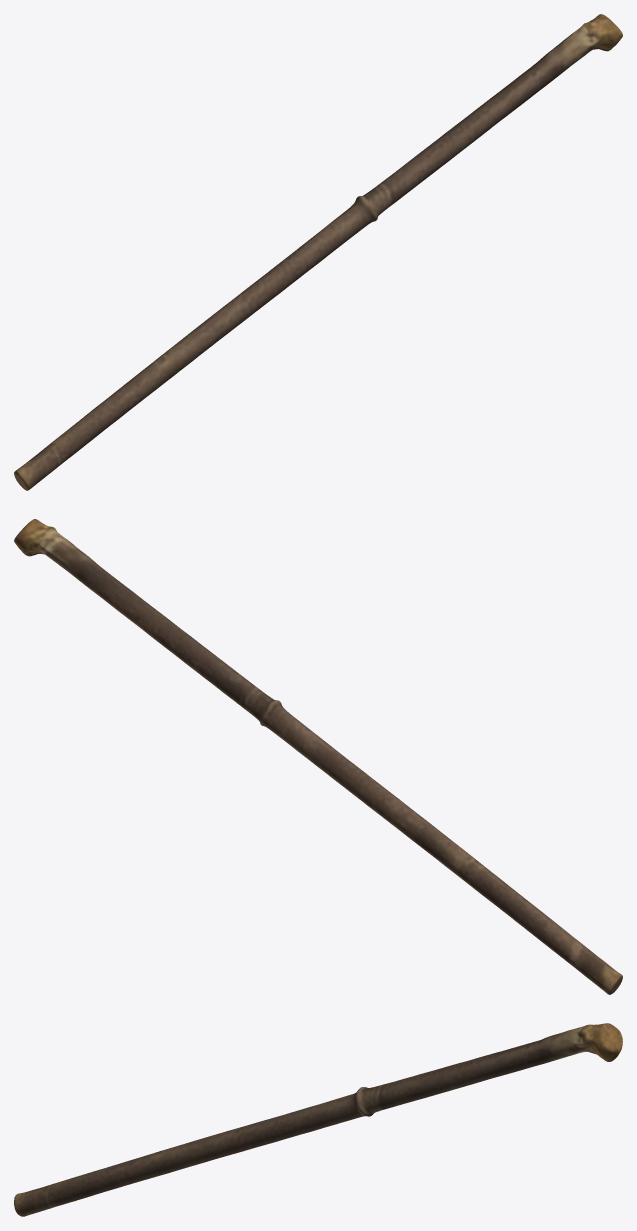
The picture shows the model from 3 angles, top to bottom: view 1: azimuth 30°, elevation 25°; view 2: azimuth 150°, elevation 25°; view 3: azimuth 330°, elevation 25°; orthographic projection.
Parts seen in each view (by area): view 1: world; view 2: world; view 3: world.
Boxes of the visible parts, x1,y1,x2,y2 form: world: (14,14,622,490); world: (14,519,622,994); world: (14,1023,622,1216).
Size of the model in its own units: 1 by 0.5286 by 0.0505.
1 material, 1 textured.
